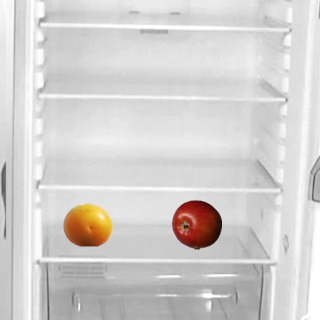Apple Braeburn: (171, 199, 221, 249)
Cherry Wax Yellow: (62, 199, 112, 249)
